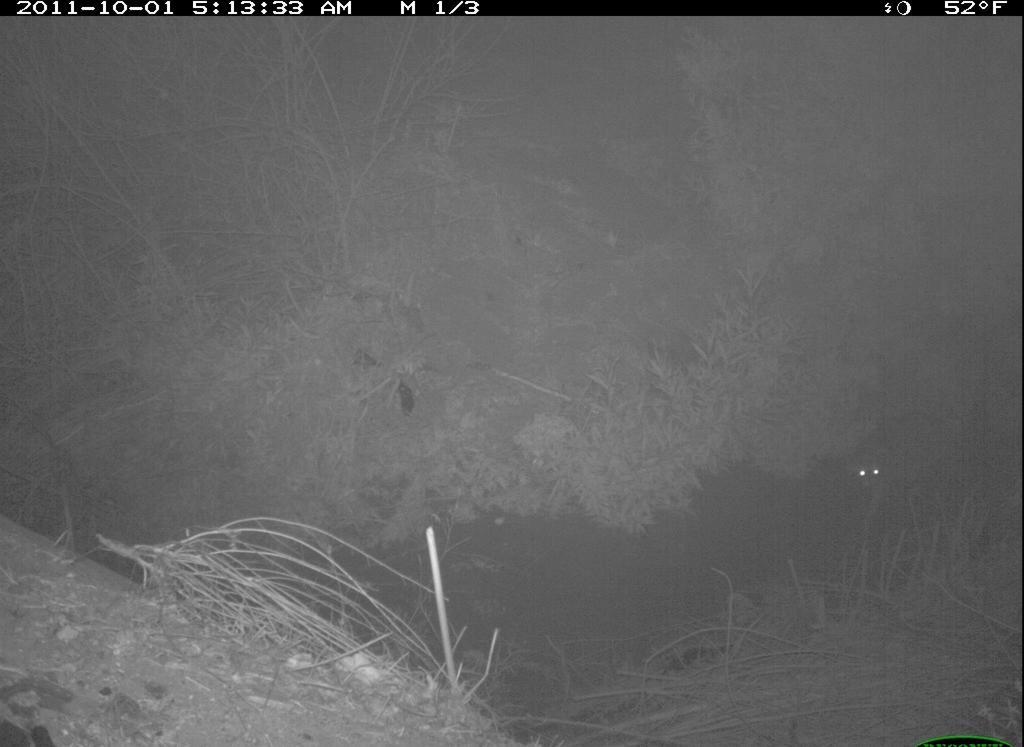raccoon: (838, 404, 1004, 541)
